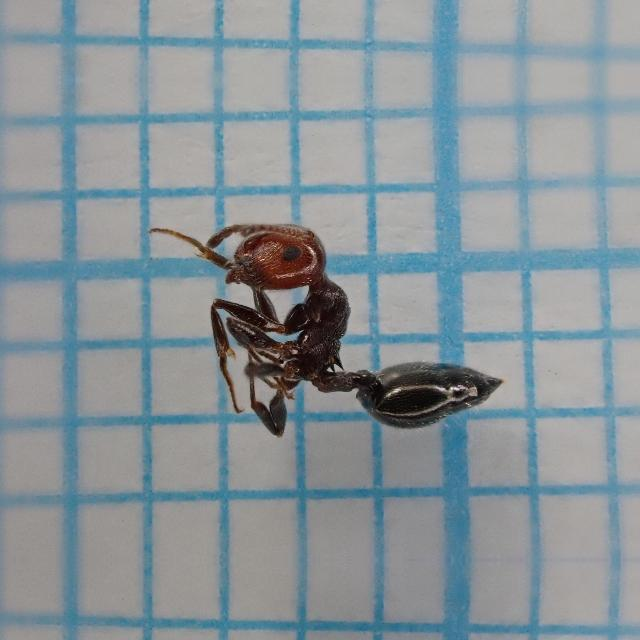Crematogaster: (199, 215, 509, 457)
